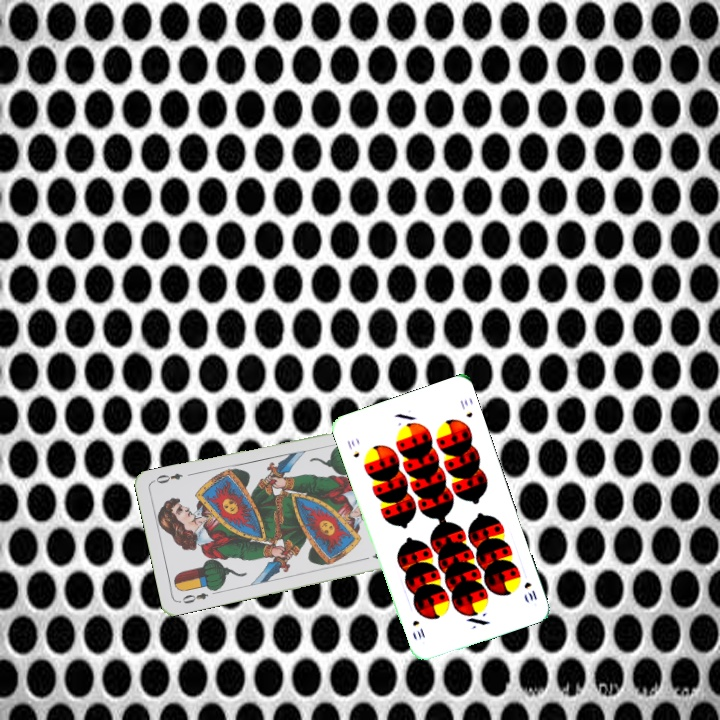EO: (175, 588, 211, 606)
S10: (520, 578, 540, 603), (343, 436, 362, 460)
